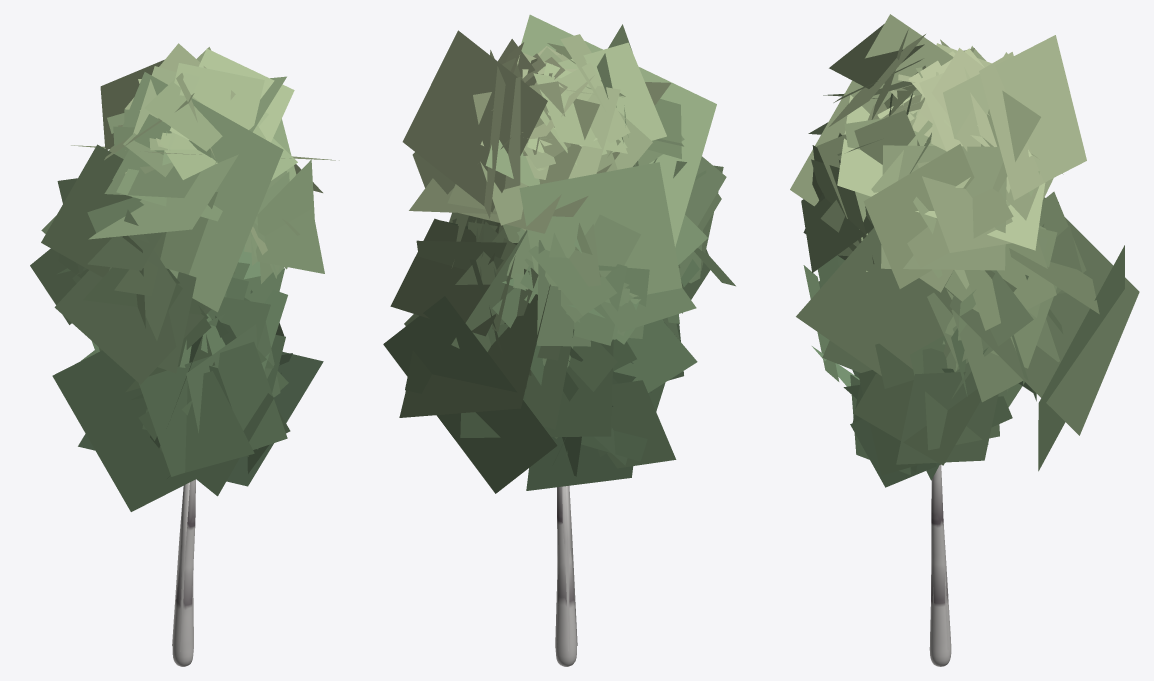
Rendered from silver_birch_v1.glb.
The picture shows the model from 3 angles, left to right: view 1: azimuth 30°, elevation 25°; view 2: azimuth 150°, elevation 25°; view 3: azimuth 270°, elevation 25°; orthographic projection. The views are drawn at different scales.
Visible parts, largest first — view 1: near, far; view 2: far, near; view 3: near, far.
Boxes of the visible parts, x1=… form: near: x1=30, y1=43, x2=324, y2=666; far: x1=52, y1=47, x2=339, y2=651; far: x1=383, y1=14, x2=716, y2=651; near: x1=390, y1=34, x2=735, y2=666; near: x1=801, y1=24, x2=1099, y2=666; far: x1=790, y1=14, x2=1139, y2=650.
Size of the model in its own units: 7.21 by 14.36 by 7.53.
